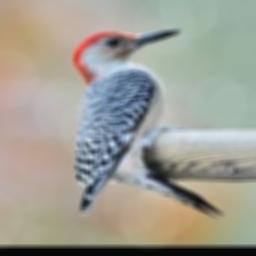Woodpecker: (57, 20, 234, 231)
